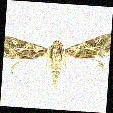Spodoptera litura: (4, 16, 109, 95)
